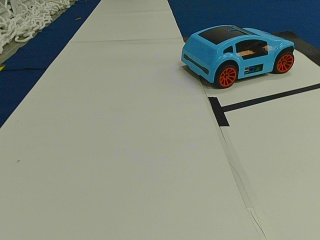car: (179, 26, 294, 86)
